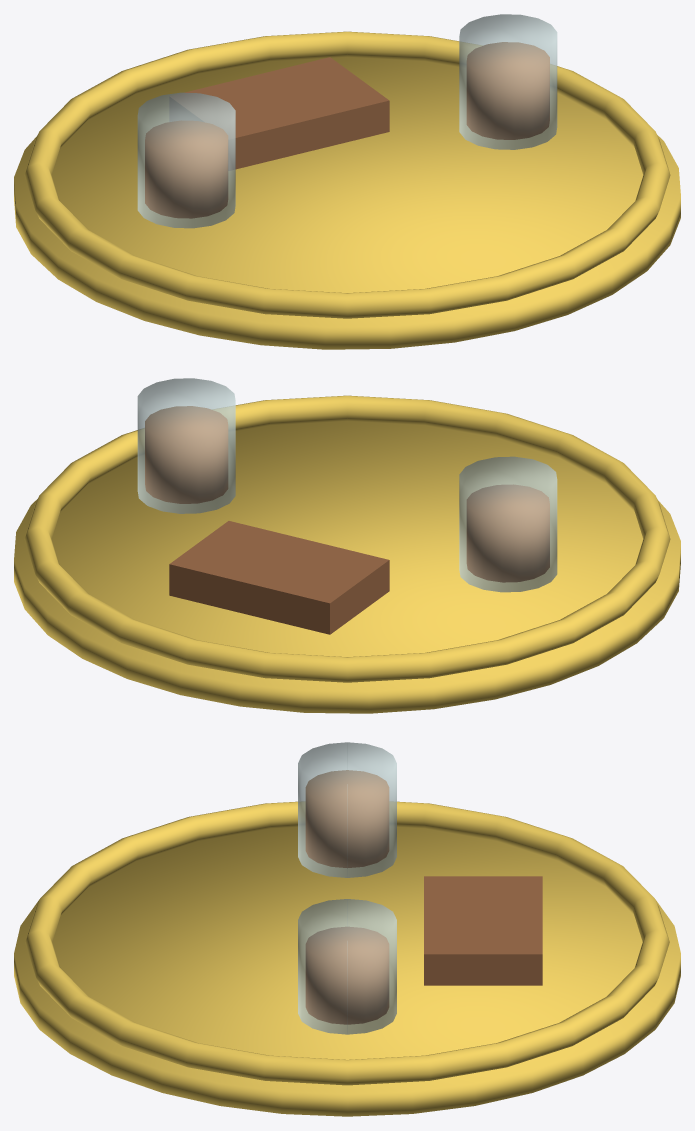
File: altin_tepsi.glb
3 views of the same model, one above another, from view 1: azimuth 30°, elevation 25°; view 2: azimuth 150°, elevation 25°; view 3: azimuth 270°, elevation 25° (orthographic).
Visible parts, largest first — view 1: AltınTepsi, TepsiKenarı, TepsiTost, TepsiBardak.001, TepsiBardak, TepsiÇay, TepsiÇay.001; view 2: AltınTepsi, TepsiKenarı, TepsiTost, TepsiBardak.001, TepsiBardak, TepsiÇay, TepsiÇay.001; view 3: AltınTepsi, TepsiKenarı, TepsiTost, TepsiBardak, TepsiBardak.001, TepsiÇay, TepsiÇay.001.
Boxes of the visible parts, x1,y1,x2,y2 form: AltınTepsi: [14, 57, 680, 349]; TepsiKenarı: [24, 31, 670, 318]; TepsiTost: [170, 57, 389, 170]; TepsiBardak.001: [459, 14, 557, 149]; TepsiBardak: [137, 92, 235, 228]; TepsiÇay: [145, 120, 228, 218]; TepsiÇay.001: [466, 42, 549, 139]; AltınTepsi: [14, 421, 680, 713]; TepsiKenarı: [24, 395, 670, 682]; TepsiTost: [169, 521, 389, 634]; TepsiBardak.001: [137, 378, 235, 513]; TepsiBardak: [459, 456, 557, 592]; TepsiÇay: [466, 484, 549, 582]; TepsiÇay.001: [145, 406, 228, 503]; AltınTepsi: [14, 827, 680, 1116]; TepsiKenarı: [25, 801, 669, 1085]; TepsiTost: [424, 876, 542, 985]; TepsiBardak: [298, 742, 396, 877]; TepsiBardak.001: [298, 899, 396, 1034]; TepsiÇay: [305, 770, 389, 867]; TepsiÇay.001: [305, 926, 389, 1024].
Bounding box in the file's own units: 2.7 × 0.6 × 2.7.
